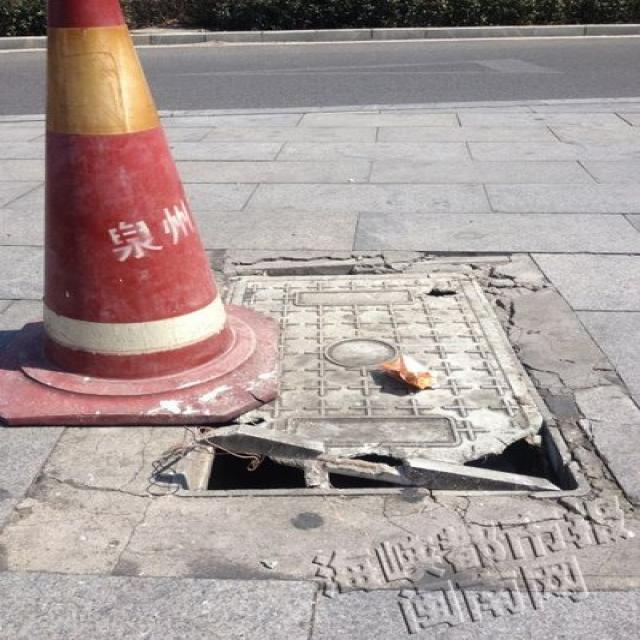manhole: (204, 252, 606, 513)
